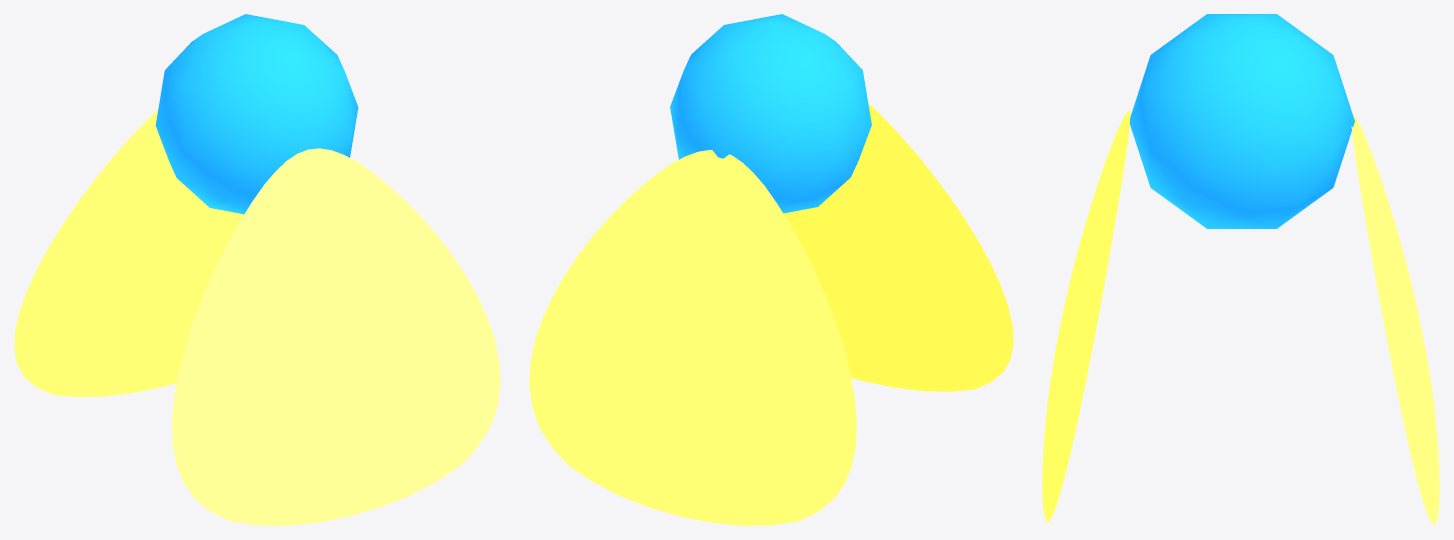
The model's file is lb_wisp.glb.
3 renders of one model, left to right at view 1: azimuth 30°, elevation 25°; view 2: azimuth 150°, elevation 25°; view 3: azimuth 270°, elevation 25°, orthographic. The views are drawn at different scales.
Visible parts, largest first — view 1: Plane, Plane.001, Icosphere; view 2: Plane.001, Plane, Icosphere; view 3: Icosphere, Plane.001, Plane.
Part boxes in pixels (left/top/right/bottom): Plane: left=172, top=148, right=500, bottom=525; Plane.001: left=14, top=109, right=243, bottom=396; Icosphere: left=155, top=14, right=358, bottom=214; Plane.001: left=529, top=150, right=856, bottom=525; Plane: left=783, top=103, right=1013, bottom=391; Icosphere: left=670, top=14, right=871, bottom=213; Icosphere: left=1130, top=14, right=1354, bottom=228; Plane.001: left=1351, top=114, right=1439, bottom=525; Plane: left=1042, top=111, right=1130, bottom=522.
Bounding box in the file's own units: 1.29 × 1.62 × 1.24.
